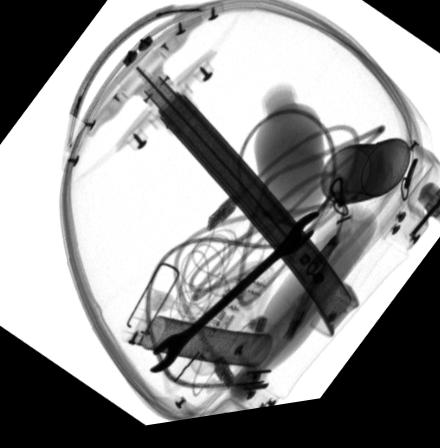Wrench: (148, 221, 321, 378)
